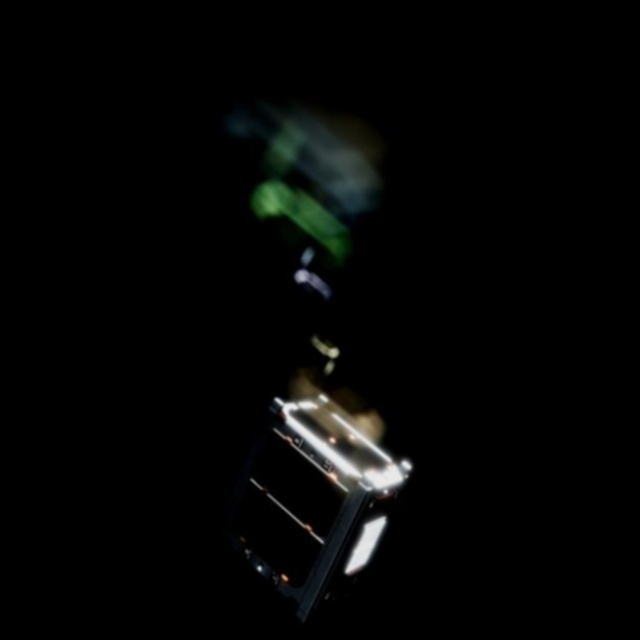satellite: (207, 372, 421, 628)
